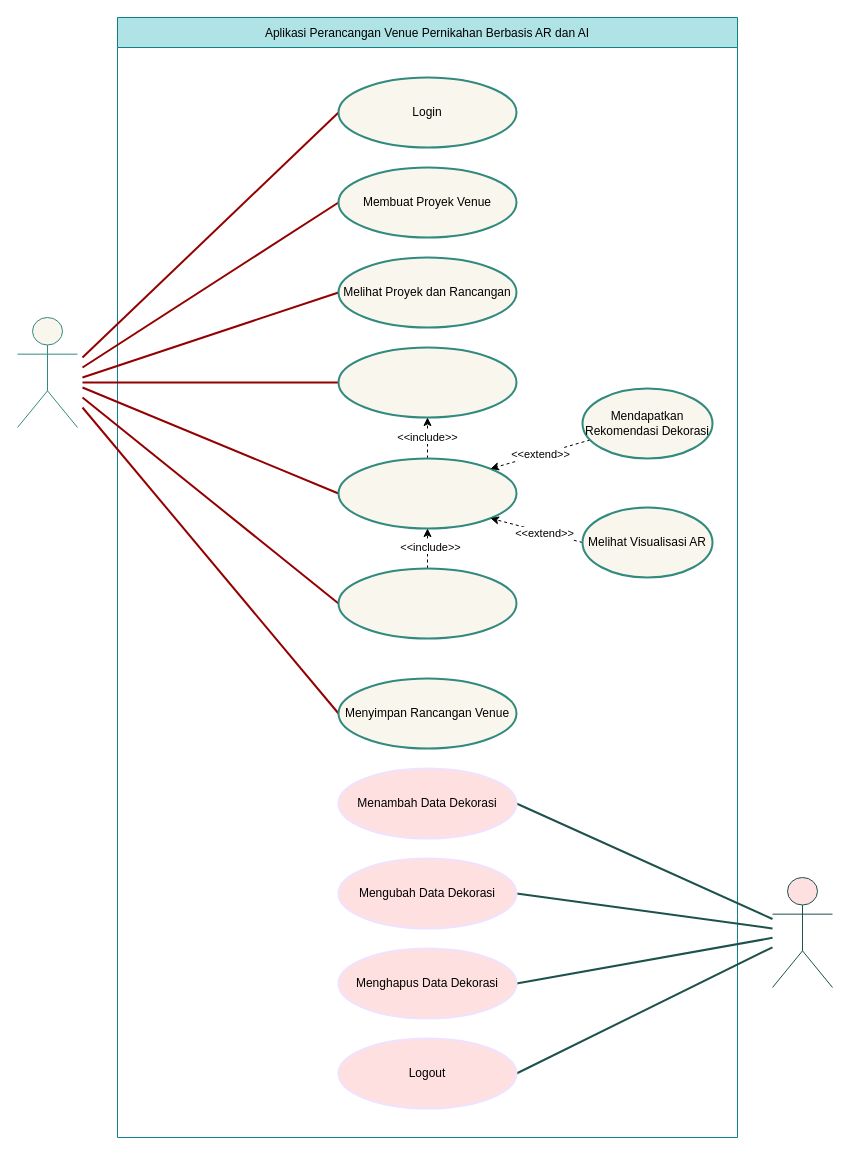
Image size: 850x1155. Some labels were removed from this diagram. The shapes that lost their labels are listed below. From the top down, each one's centre as x and y in pixels, then its label:
the point at 47,372: Wedding Organizer (WO)
the point at 427,382: Melihat Katalog Dekorasi
the point at 427,493: Merancang Layout Venue
the point at 427,603: Melihat Estimasi Biaya
the point at 802,932: Admin
